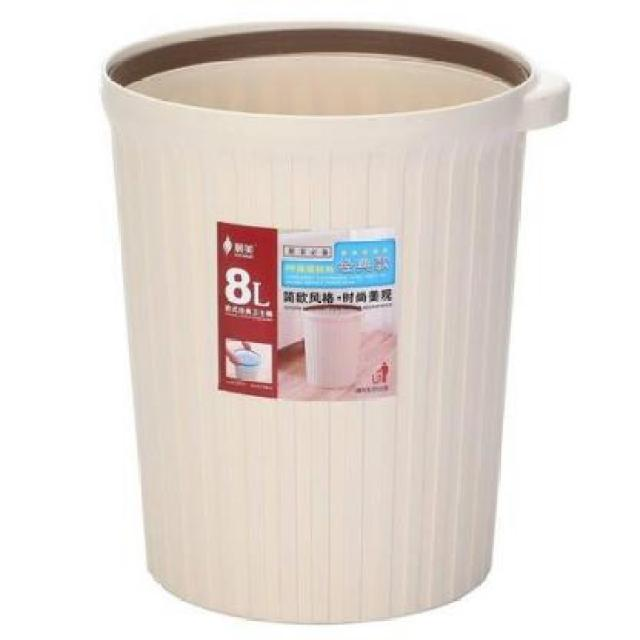dustbin: (92, 15, 577, 631)
